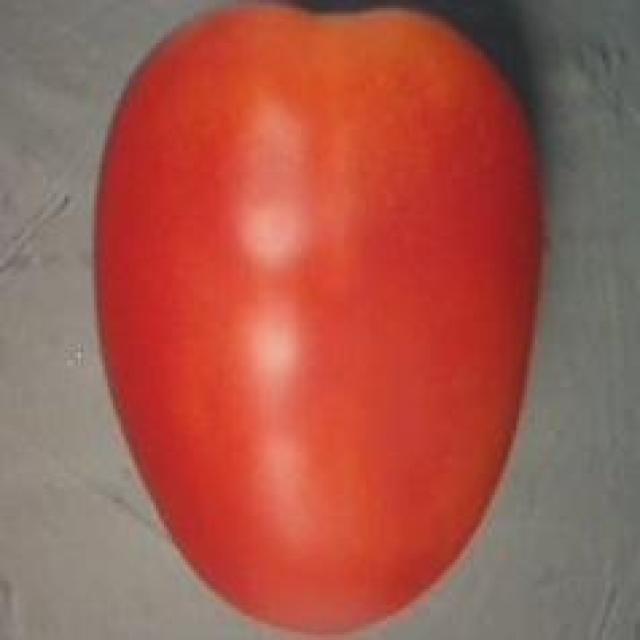ripe tomato: (78, 2, 554, 640)
